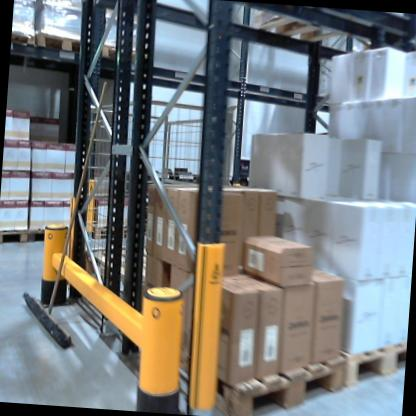pallet: (122, 299, 350, 416), (78, 242, 201, 305), (252, 4, 399, 55), (327, 332, 407, 396), (89, 36, 152, 72), (32, 25, 93, 60), (27, 223, 85, 248), (0, 227, 30, 250), (11, 31, 36, 54)
